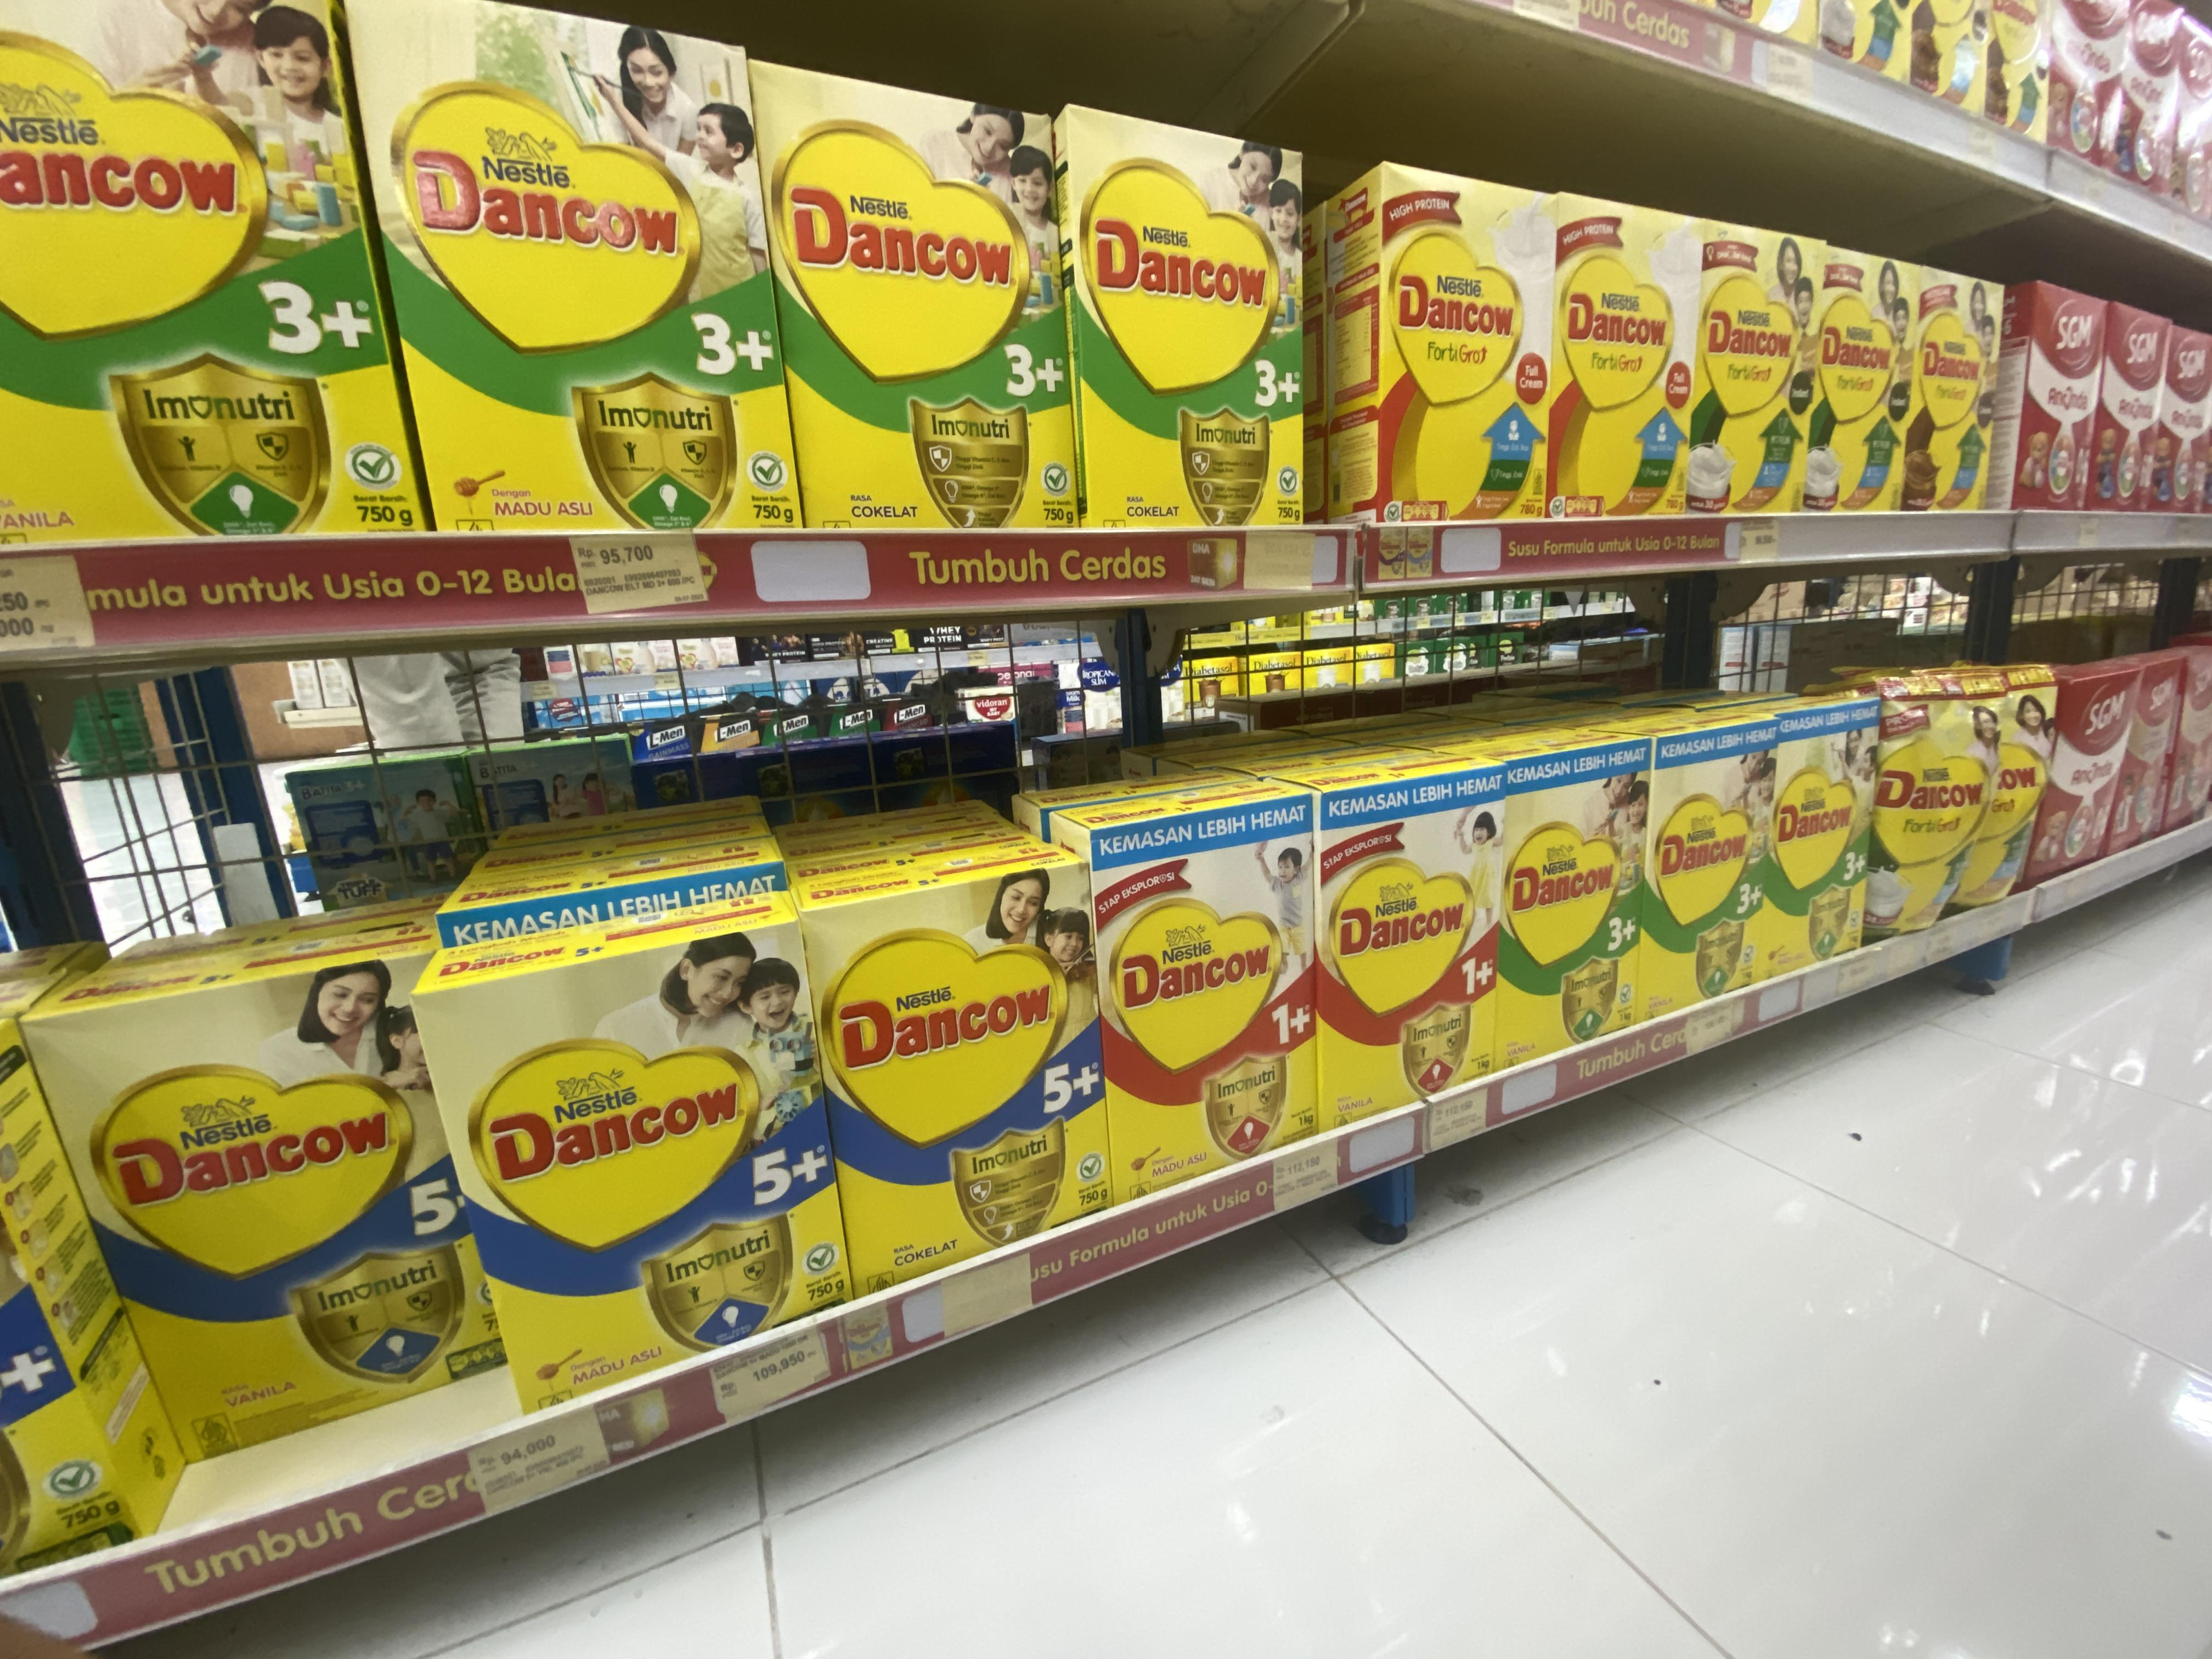DANCOW 1+ Madu Advn ExcNutr 12x1000g N1 ID_REDESIGN3: (1097, 843, 1318, 1182)
DANCOW 3+ Madu Advn ExcNutr 12x800g ID_REDESIGN3: (380, 23, 798, 542)
DANCOW 3+ Van Advn ExcNutr 12x1000g ID_REDESIGN3: (1493, 784, 1644, 1054), (1635, 758, 1768, 1016)
